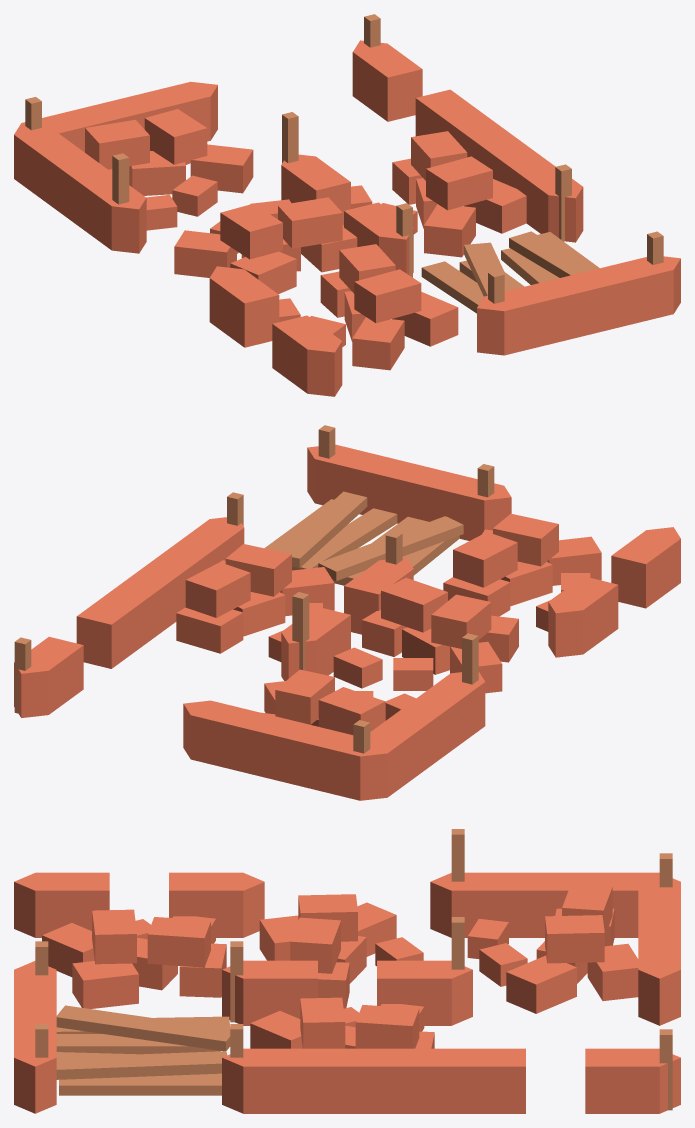
Rendered from Casa9Rota.FBX.
3 views of the same model, one above another, from view 1: azimuth 30°, elevation 25°; view 2: azimuth 150°, elevation 25°; view 3: azimuth 270°, elevation 25° (orthographic). The views are drawn at different scales.
Parts seen in each view (by area): view 1: wall_border_201; view 2: wall_border_201; view 3: wall_border_201.
Boxes of the visible parts, x1=… form: wall_border_201: x1=14, y1=14, x2=680, y2=396; wall_border_201: x1=14, y1=425, x2=680, y2=800; wall_border_201: x1=14, y1=829, x2=680, y2=1113.
Bounding box in the file's own units: 2205 × 500 × 3205.
